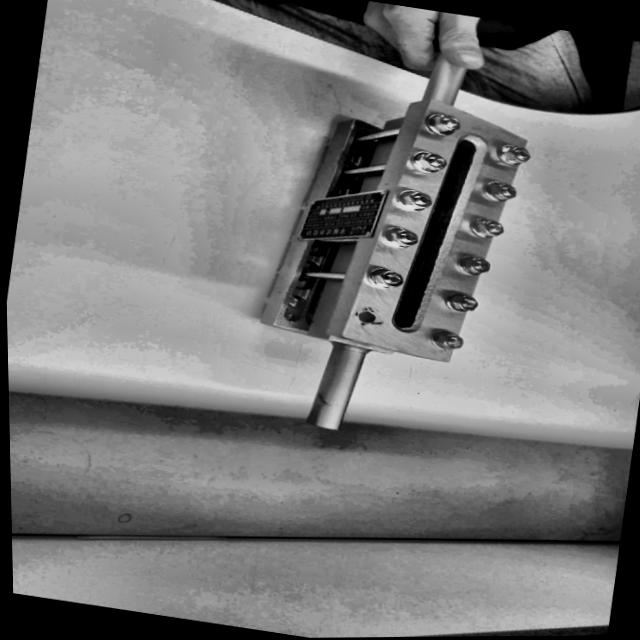ShuiWeiQi_11: (202, 77, 610, 474)
